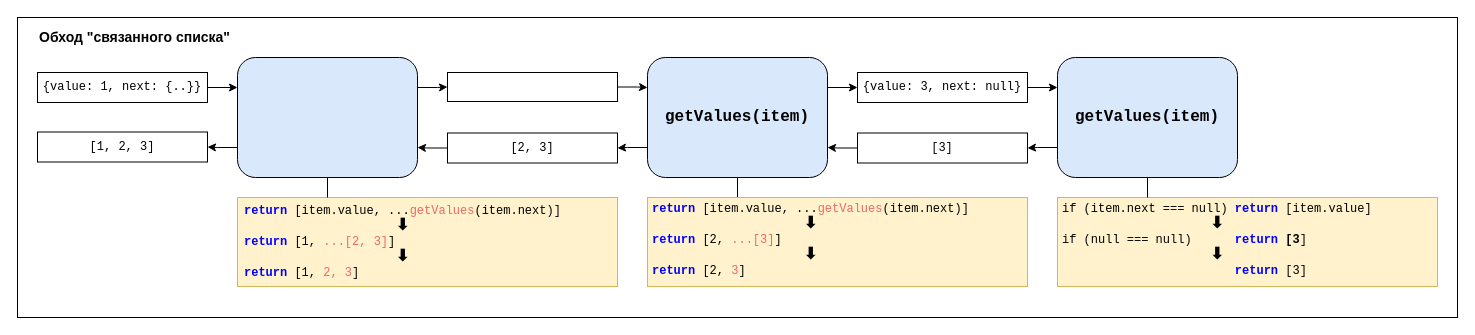
Some shapes in this 1475 by 335 pixel diagram are drawn without their labels. The shapes that lost their labels are listed below. From the top down, each one's centre as x and y in pixels, then its label:
[532,87]: {value: 2, next: {..}}
[327,117]: getValues ( item )
